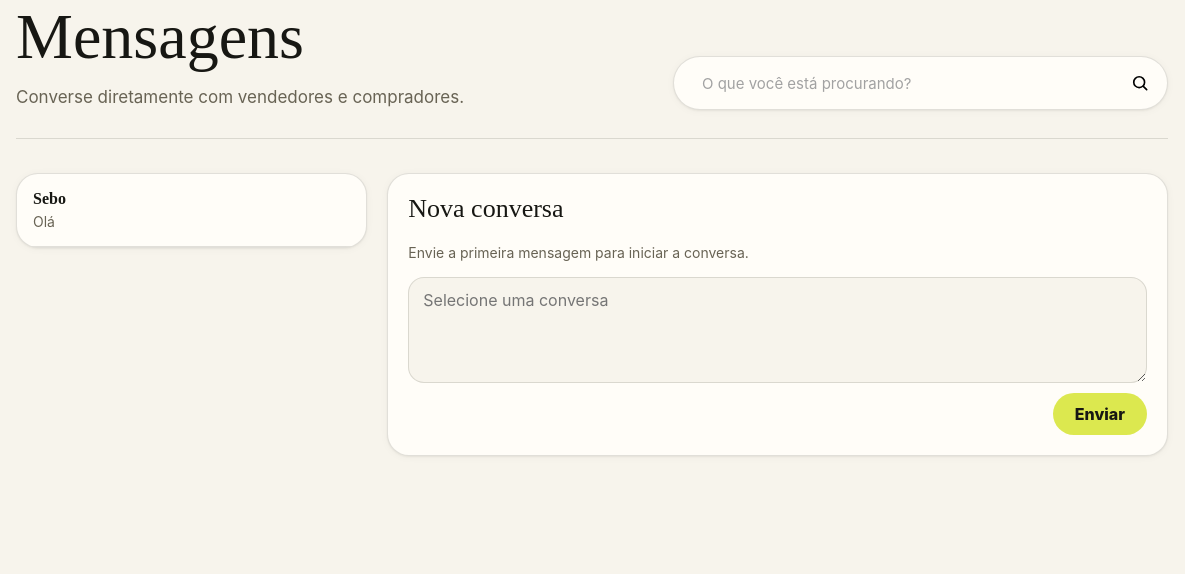
Test: ramos alternativos e interacoes › seleciona conversa existente e trata falhas de conversa e envio
Click the button "Sebo Olá" at {"x": 49, "y": 199}, box [17,174,366,247]
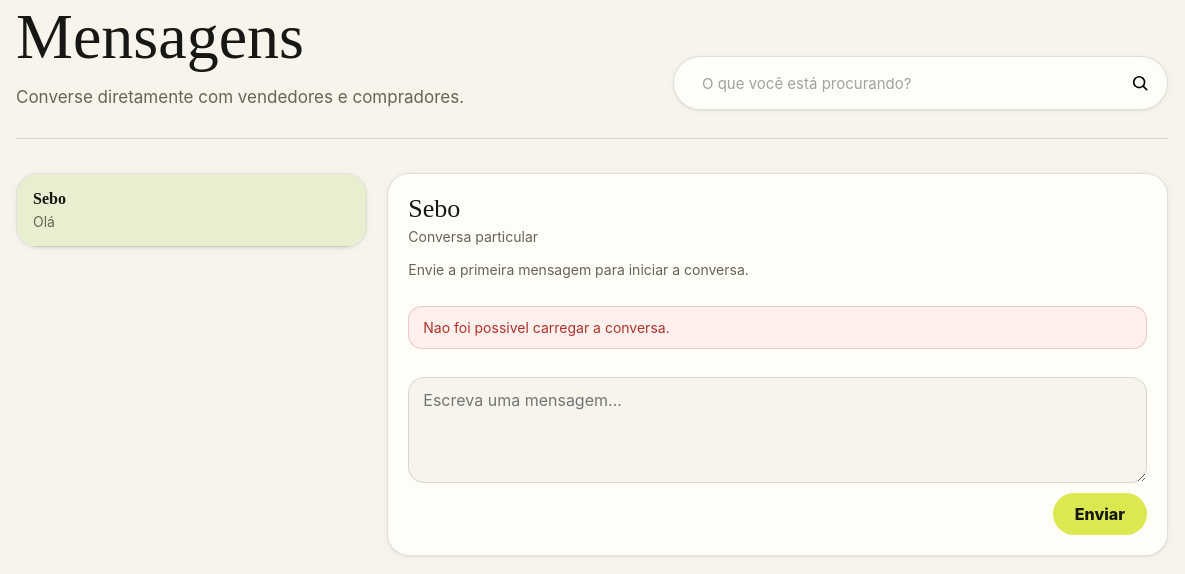
Expected: the message reads "Nao foi possivel carregar a conversa.", [423,319,670,336]
Type "Teste" into the text box labelled "mensagem" at {"x": 778, "y": 430}, box [408,377,1147,483]
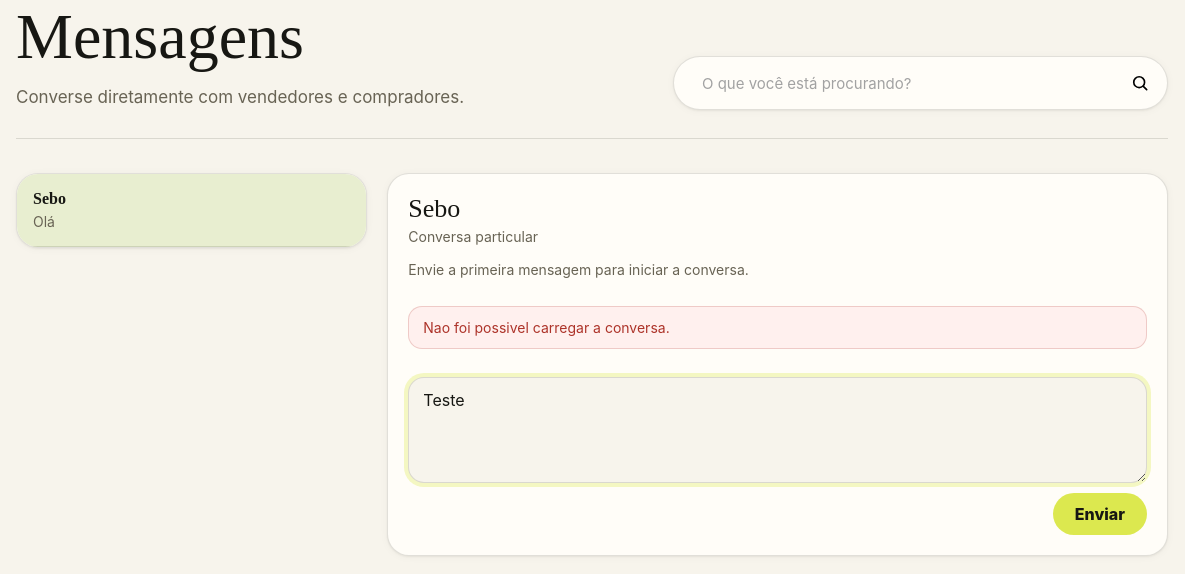
Click the button "Enviar" at {"x": 1100, "y": 514}, box [1053,493,1147,535]
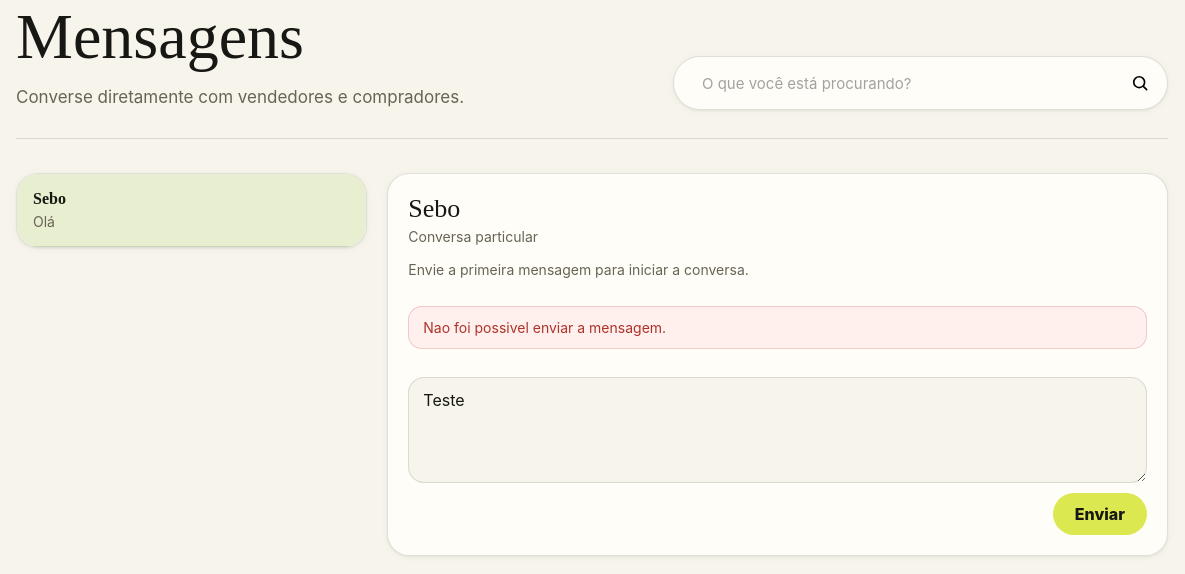
Expected: the message reads "Nao foi possivel enviar a mensagem.", [423,319,666,336]
